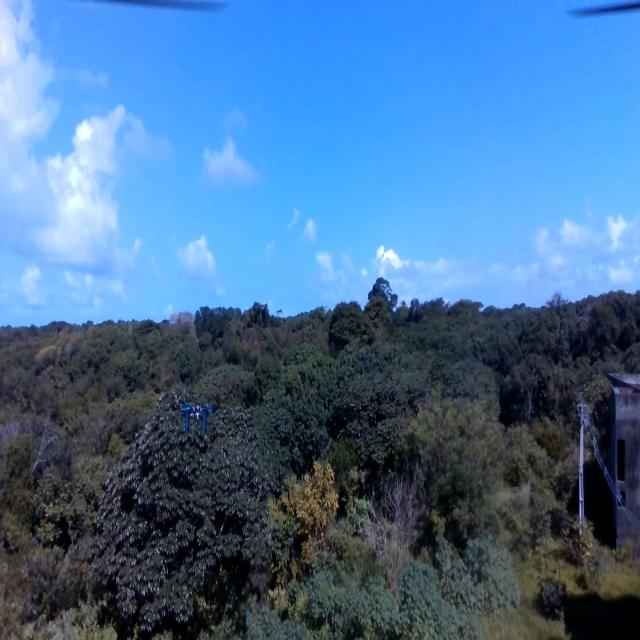-uav-: (169, 389, 227, 451)
